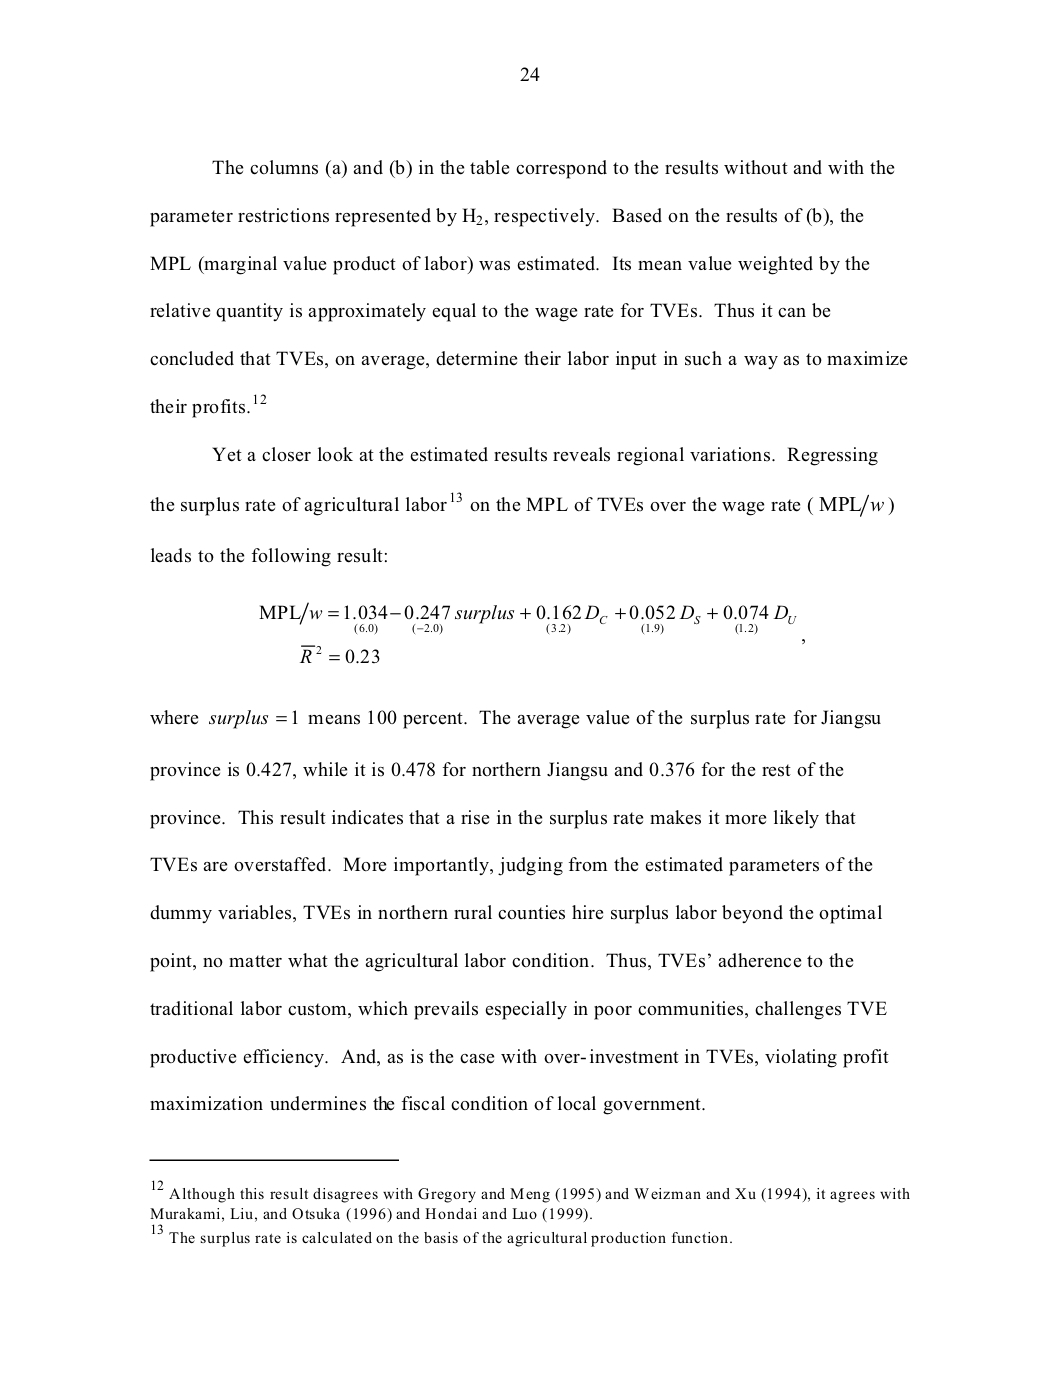figure: (149, 1158, 398, 1161)
formula: (259, 601, 796, 635), (299, 644, 802, 664)
